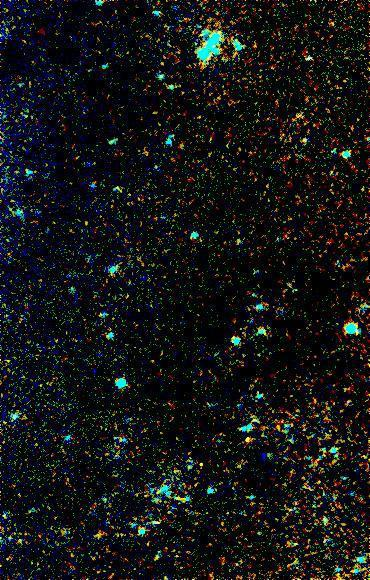star: (231, 425, 261, 455)
